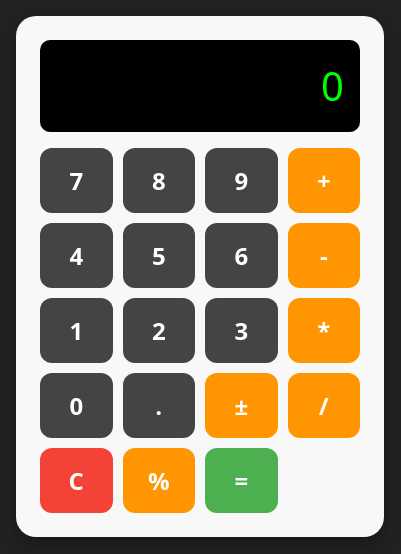
Scenario: Calculator › shows number when button is clicked
Click the button "7". click: (76, 180)
box: [40, 148, 112, 212]
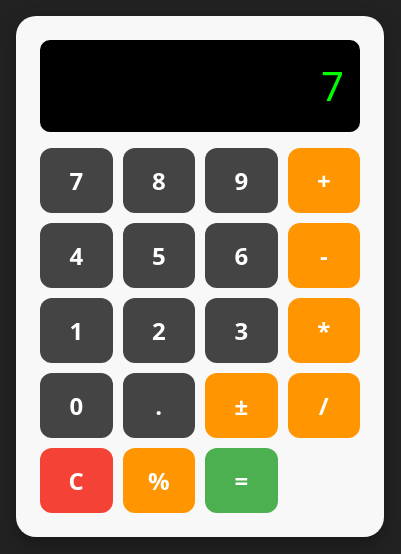
Expected: the heading reads "7", [321, 58, 344, 112]
